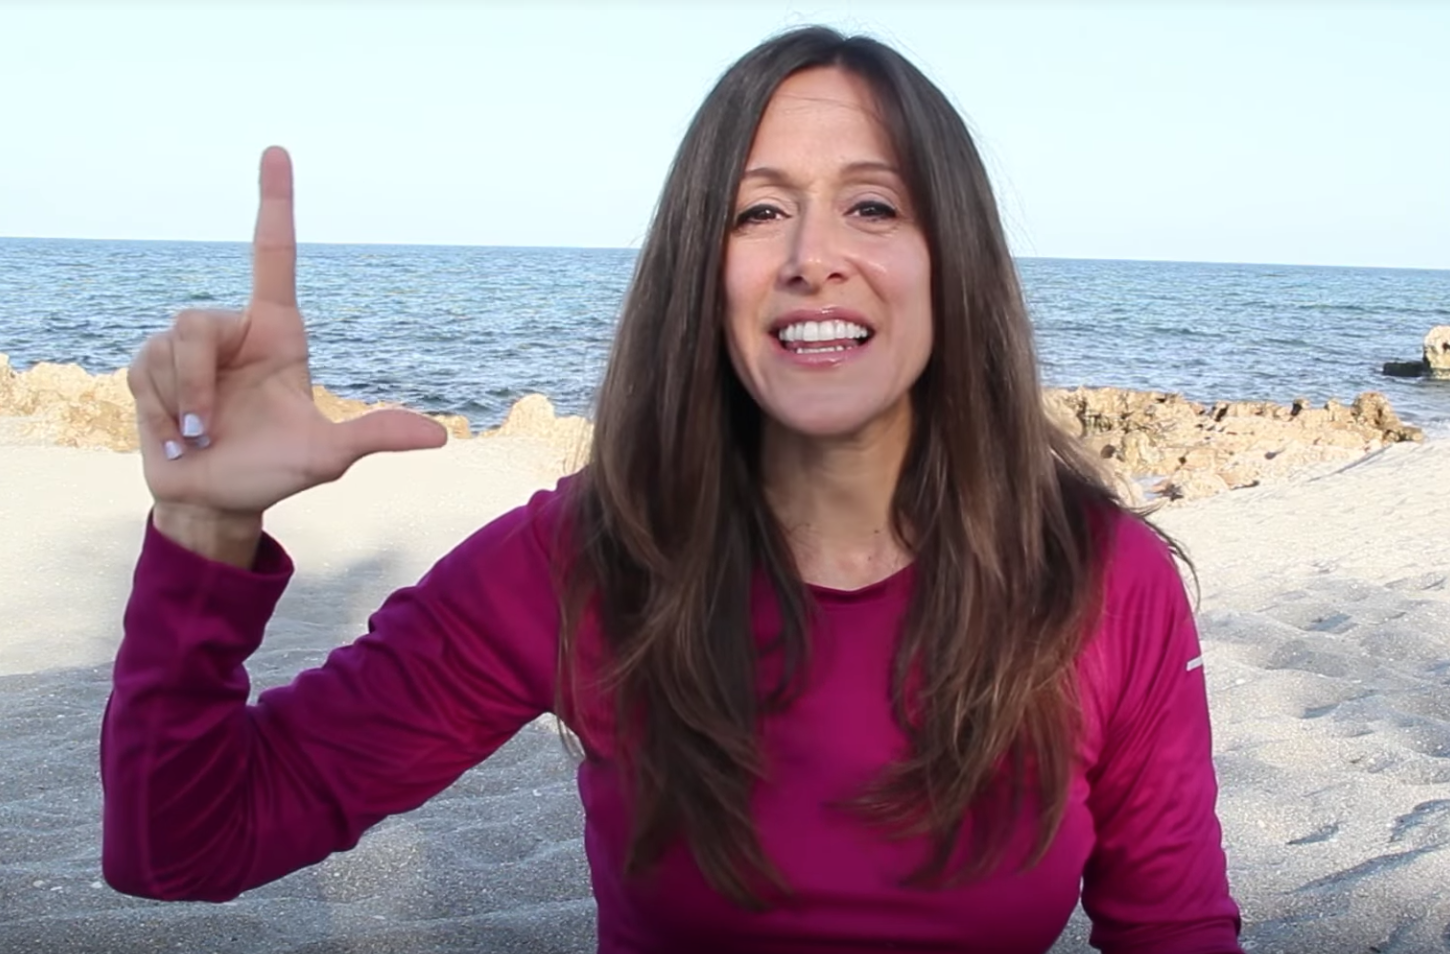l: (108, 127, 462, 556)
